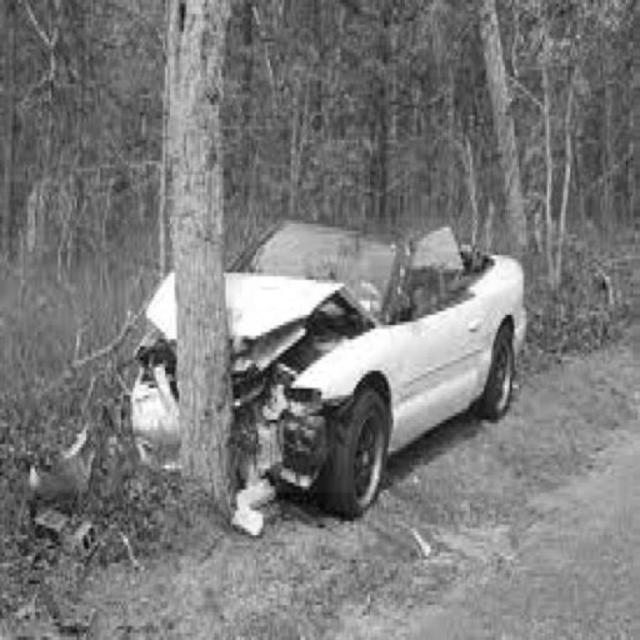accident: (125, 218, 522, 492)
